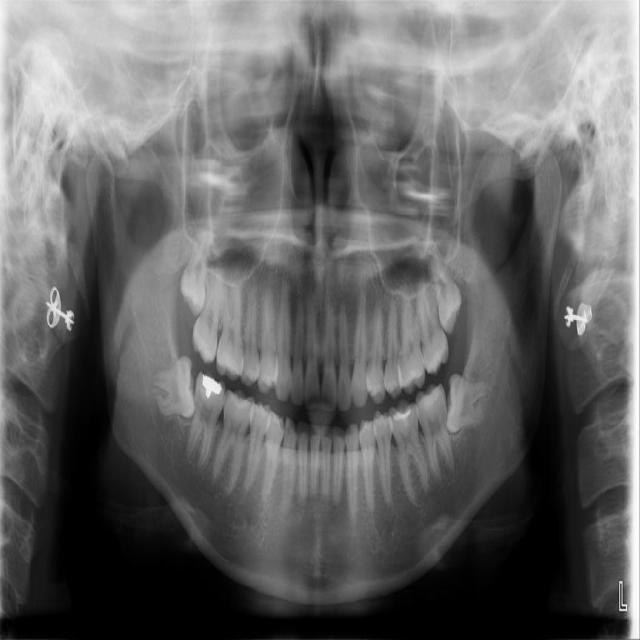3M ESPE Implant: (177, 198, 217, 317)
52: (185, 369, 233, 422), (413, 381, 450, 432), (385, 396, 423, 442)
BioHorizons Implant: (416, 272, 451, 377)
BioLife Implant: (424, 237, 469, 335)
Biomet 3i Implant: (436, 372, 491, 439)
Blue Sky Bio Implant: (412, 381, 458, 485)
Caries: (189, 253, 228, 365)
Implant: (183, 370, 229, 473)
Keystone Dental Implant: (147, 353, 200, 423)
